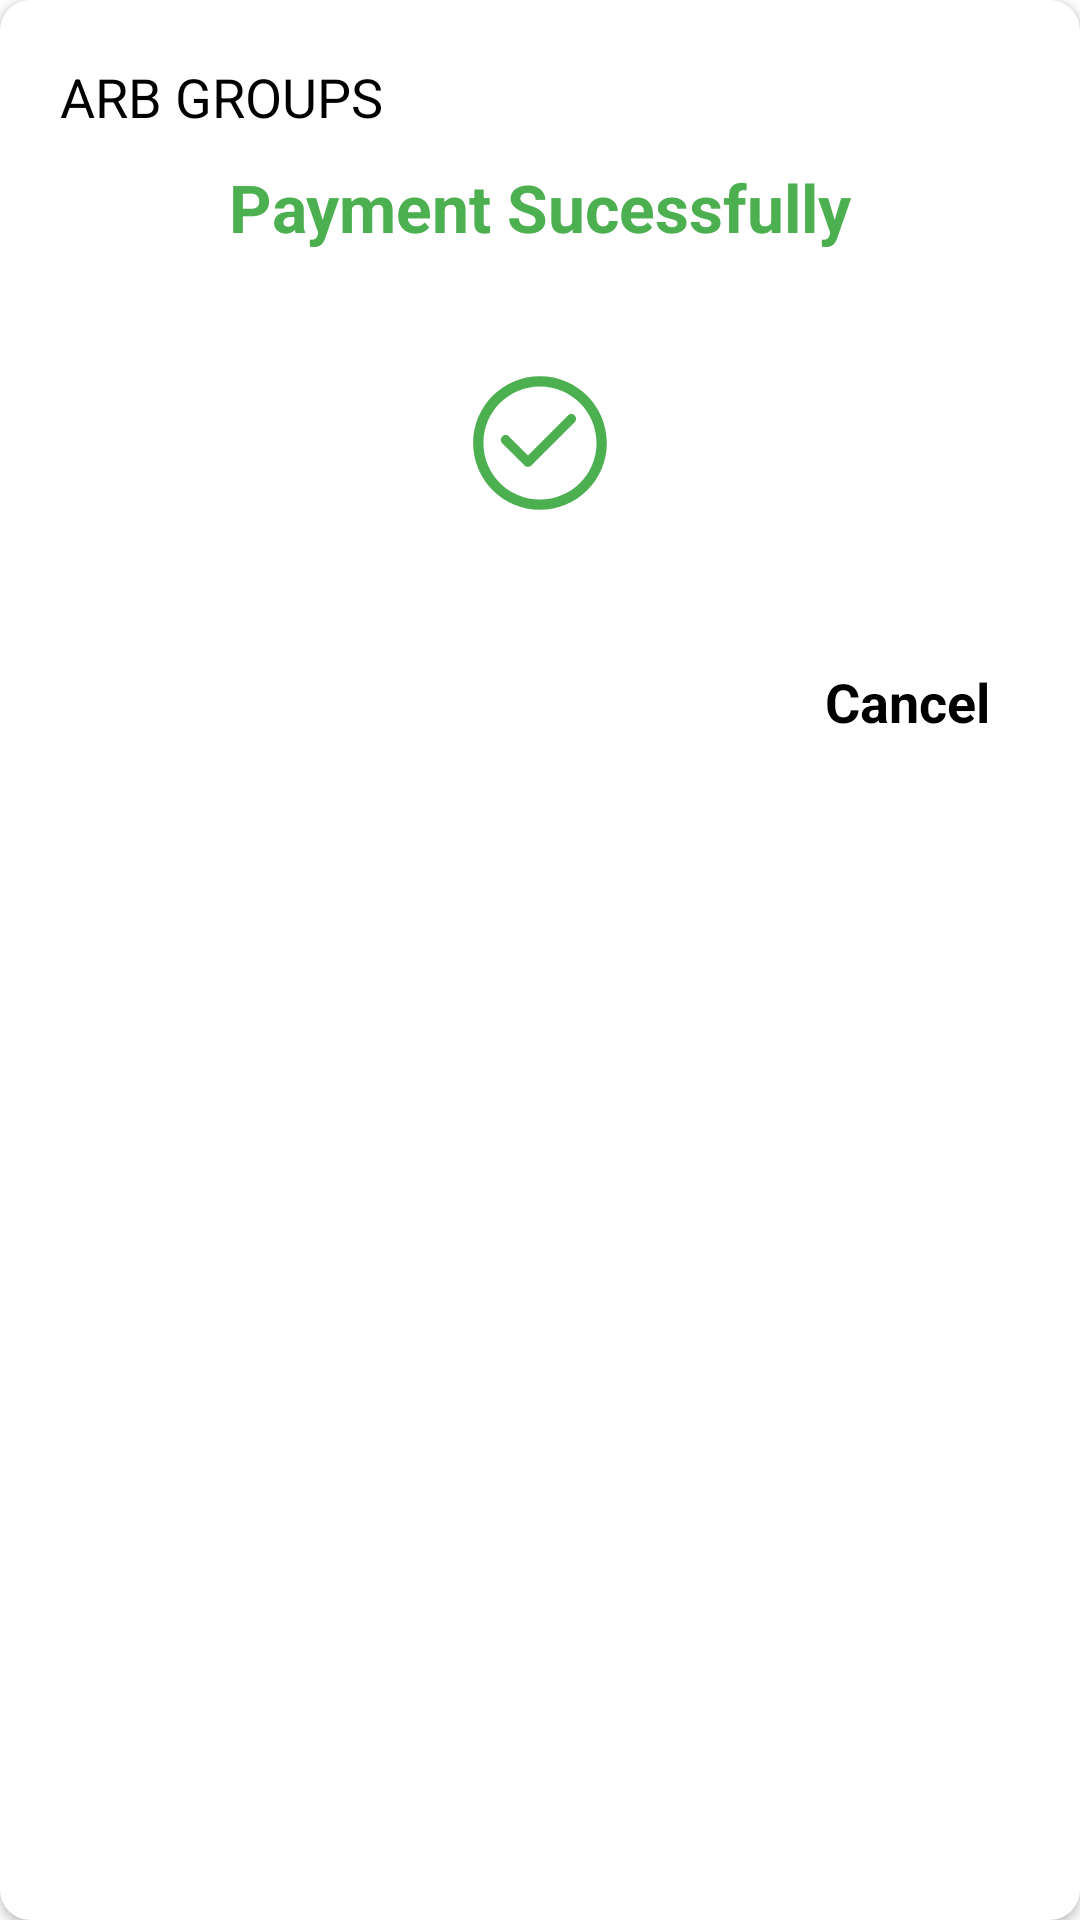

Named icons in this screenshot (1080*1920) and their bounding boxes, region(x1, y1, x2, y2):
accept: region(473, 376, 607, 510)
